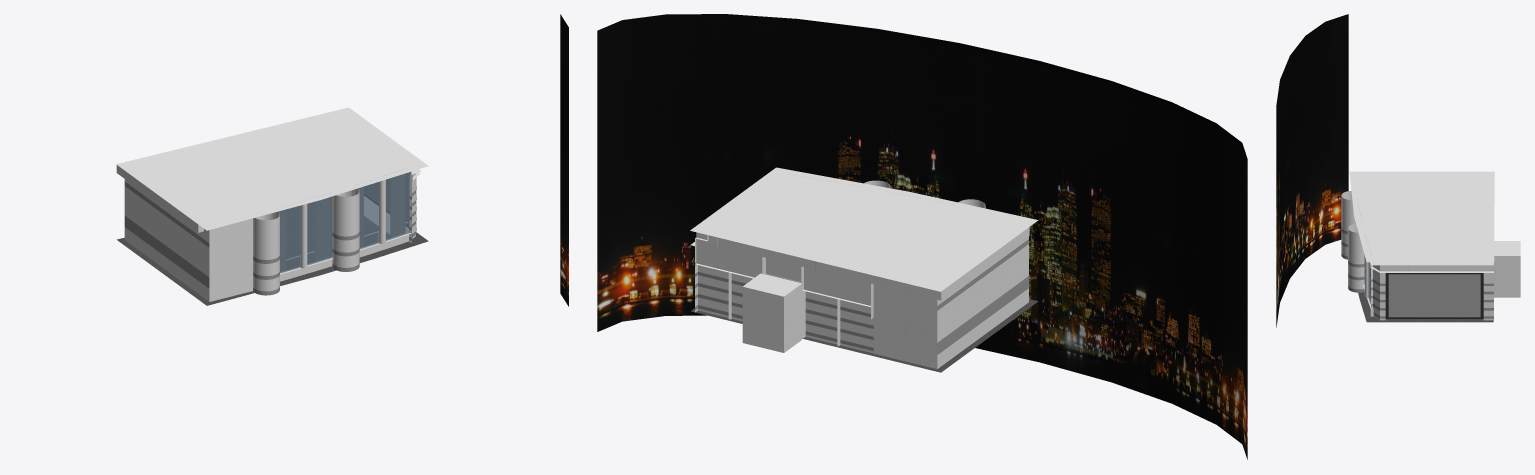
File: Room.FBX
3 renders of one model, left to right at view 1: azimuth 30°, elevation 25°; view 2: azimuth 150°, elevation 25°; view 3: azimuth 270°, elevation 25°, orthographic. The views are drawn at different scales.
Parts seen in each view (by area): view 1: Roof, Wall, Glass, Floor, Cyclo, Rideaux, Wall_Strip; view 2: Cyclo, Wall, Roof, Wall_Strip, Floor; view 3: Cyclo, Roof, Wall, [screen], Screen_Border, Floor, Wall_Strip.
Part boxes in pixels (x1=…): Roof: x1=116, y1=107, x2=428, y2=230; Wall: x1=116, y1=165, x2=421, y2=301; Glass: x1=273, y1=172, x2=409, y2=273; Floor: x1=117, y1=197, x2=428, y2=305; Cyclo: x1=560, y1=14, x2=568, y2=306; Rideaux: x1=279, y1=174, x2=405, y2=271; Wall_Strip: x1=124, y1=181, x2=416, y2=295; Cyclo: x1=597, y1=14, x2=1247, y2=459; Wall: x1=690, y1=180, x2=1029, y2=369; Roof: x1=690, y1=167, x2=1038, y2=291; Wall_Strip: x1=695, y1=239, x2=1028, y2=354; Floor: x1=691, y1=299, x2=1038, y2=372; Cyclo: x1=1276, y1=14, x2=1348, y2=327; Roof: x1=1349, y1=171, x2=1494, y2=262; Wall: x1=1341, y1=191, x2=1520, y2=320; [screen]: x1=1388, y1=274, x2=1480, y2=317; Screen_Border: x1=1385, y1=273, x2=1483, y2=318; Floor: x1=1358, y1=268, x2=1493, y2=322; Wall_Strip: x1=1341, y1=228, x2=1493, y2=318.
Bounding box in the file's own units: 5688 × 2644 × 2627.
Materials: 5 (2 with a texture image).
